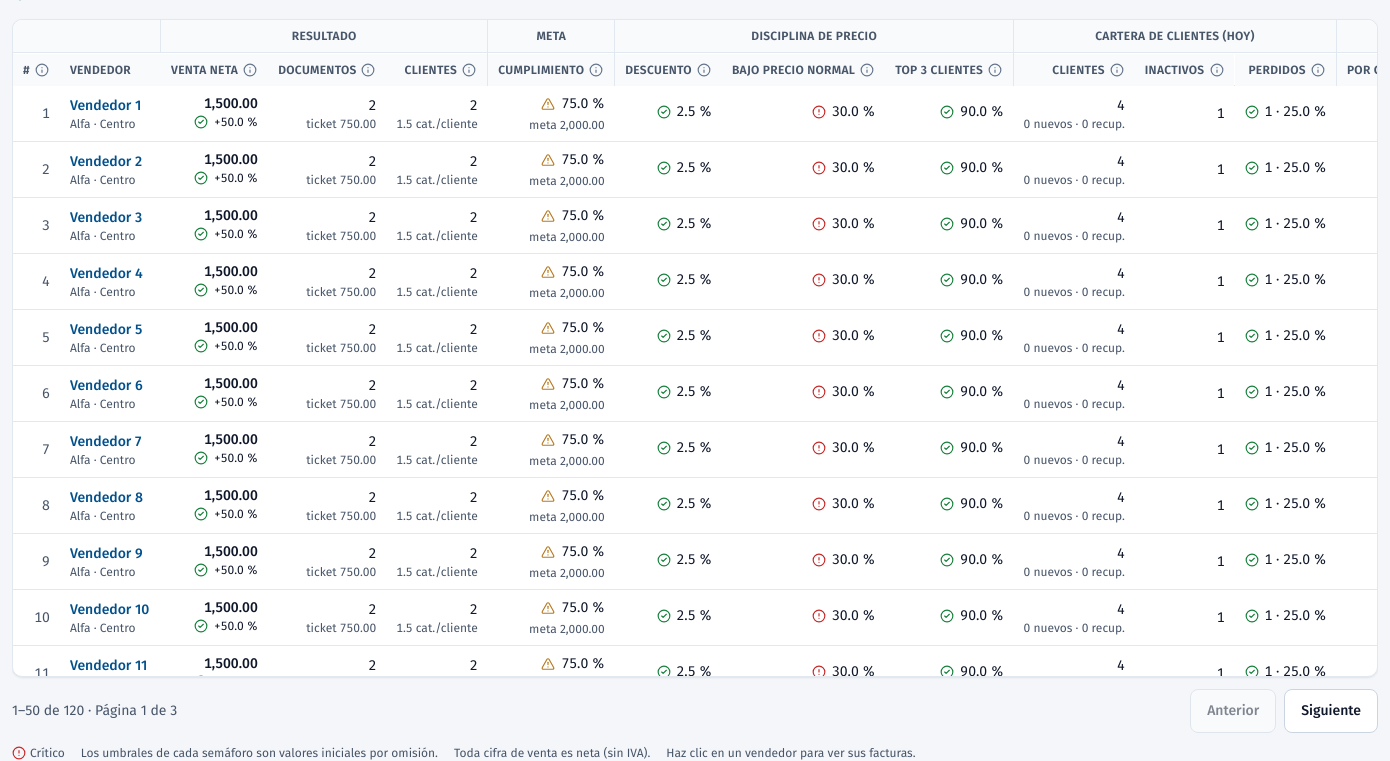
Test: paginación de reportes › muestra 50 filas por página y deja recorrer el resto
(page scrolled)
Check: the text "1–50 de 120 · Página 1 de 3" is shown, box [12,701,177,721]
Click the button "Siguiente": click(1331, 711) [1284,689,1378,733]
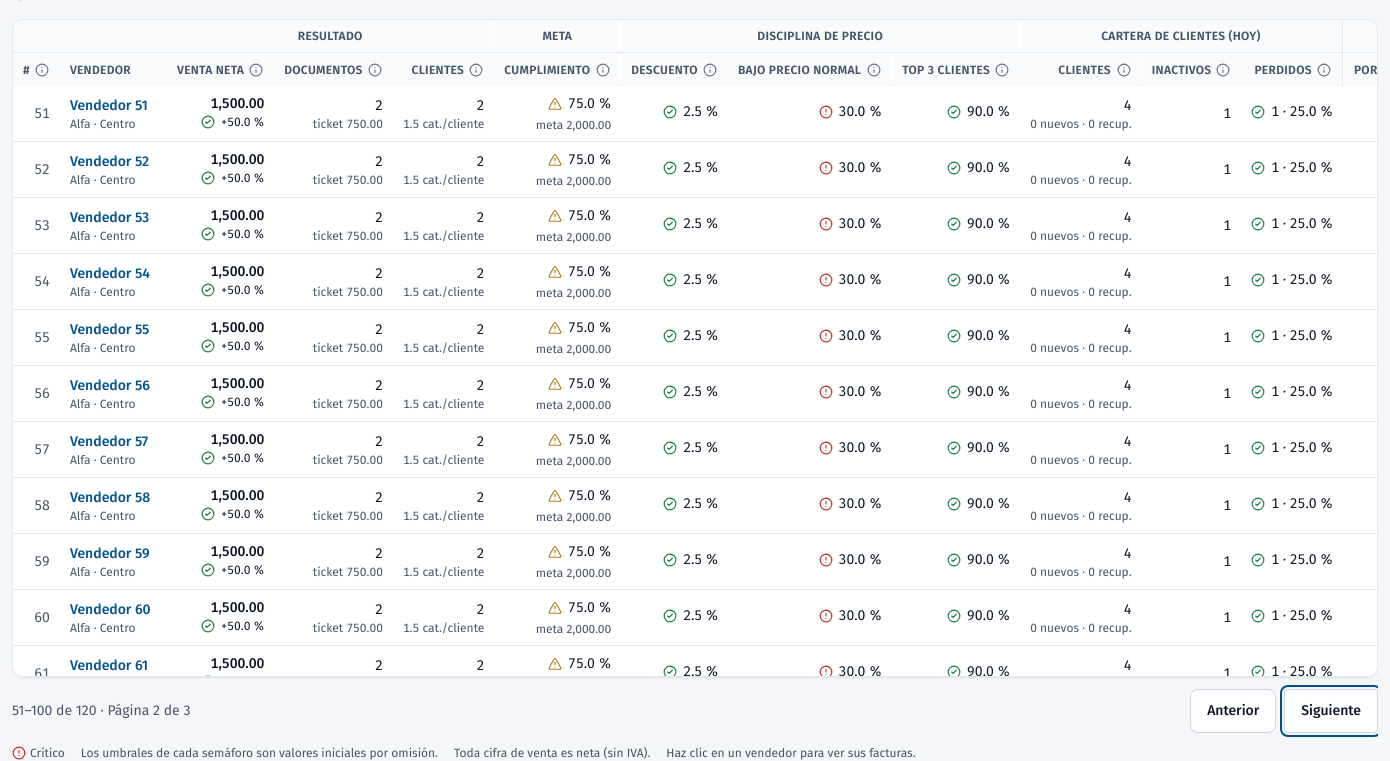
Check: the button with aria-label "Ver la facturación de Vendedor 51" is shown, box [70,96,148,116]
Check: the text "51–100 de 120 · Página 2 de 3" is shown, box [12,701,190,721]
